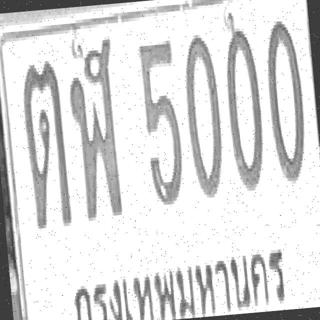A21: (19, 57, 73, 232)
A42: (64, 32, 126, 222)
N00: (220, 14, 268, 192), (261, 16, 310, 185), (179, 30, 227, 199)
N05: (136, 35, 186, 207)
P04: (66, 242, 294, 320)
